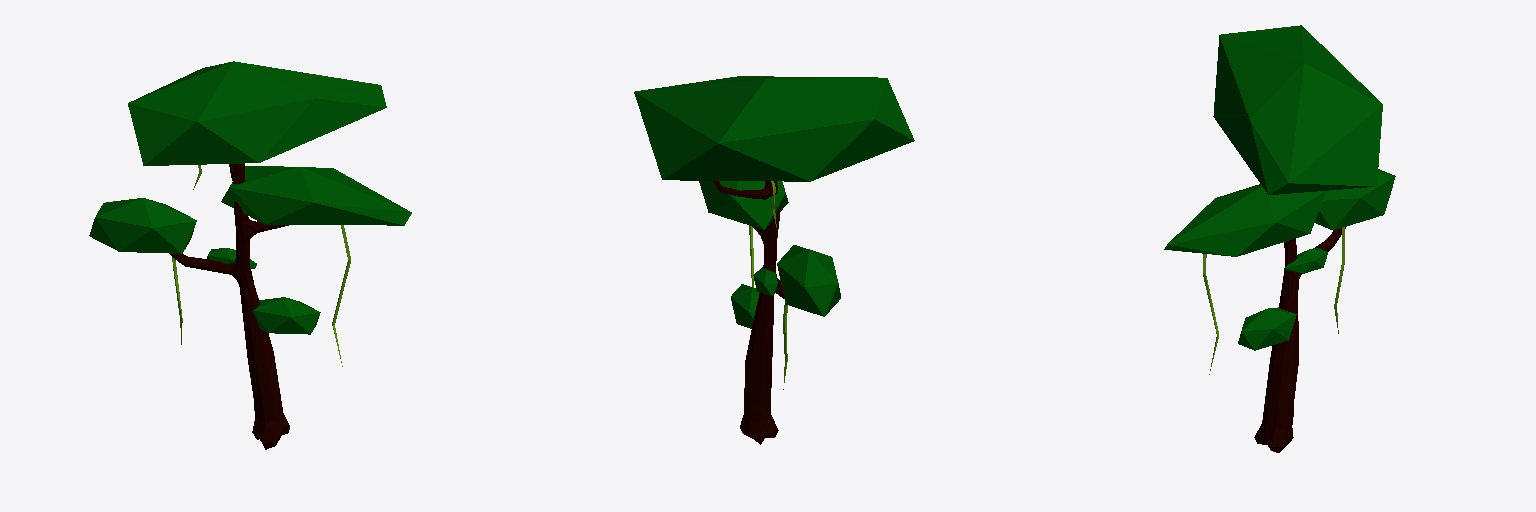
The model's file is bigliantree.obj.
3 views of the same model, side by side, from view 1: azimuth 30°, elevation 25°; view 2: azimuth 150°, elevation 25°; view 3: azimuth 270°, elevation 25° (orthographic).
Visible parts, largest first — view 1: Icosphere, Cube, Cube.001_Cube.002; view 2: Icosphere, Cube, Cube.001_Cube.002; view 3: Icosphere, Cube, Cube.001_Cube.002.
Boxes of the visible parts, x1,y1,x2,y2 form: Icosphere: [89, 61, 411, 334]; Cube: [169, 164, 289, 449]; Cube.001_Cube.002: [172, 165, 350, 366]; Icosphere: [634, 76, 914, 328]; Cube: [713, 181, 784, 444]; Cube.001_Cube.002: [749, 181, 787, 389]; Icosphere: [1164, 25, 1395, 350]; Cube: [1254, 227, 1345, 452]; Cube.001_Cube.002: [1203, 227, 1344, 374].
Bounding box in the file's own units: 14.45 × 20.03 × 11.17.